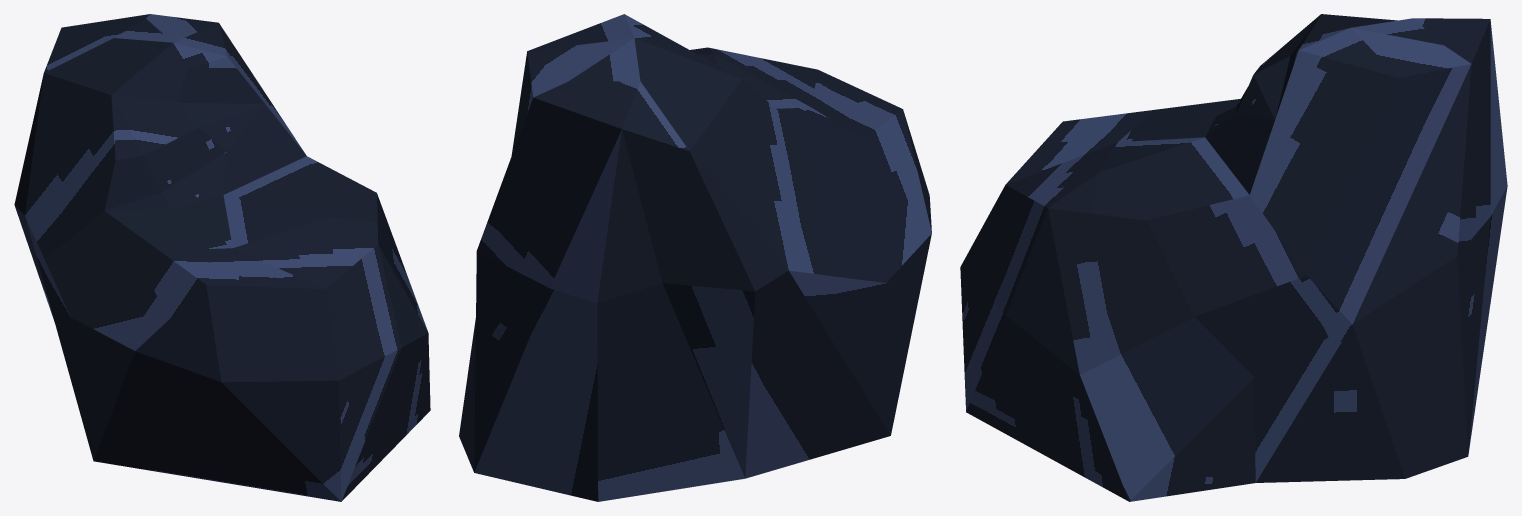
File: Piedra Grande.fbx
The picture shows the model from 3 angles, left to right: view 1: azimuth 30°, elevation 25°; view 2: azimuth 150°, elevation 25°; view 3: azimuth 270°, elevation 25°; orthographic projection. The views are drawn at different scales.
Visible parts, largest first — view 1: Piedra Grande; view 2: Piedra Grande; view 3: Piedra Grande.
Boxes of the visible parts, left/top/right/bottom form: Piedra Grande: left=14, top=14, right=430, bottom=501; Piedra Grande: left=459, top=14, right=931, bottom=501; Piedra Grande: left=960, top=14, right=1507, bottom=501.
Bounding box in the file's own units: 770 × 1014 × 787.
Materials: 1 (1 with a texture image).
